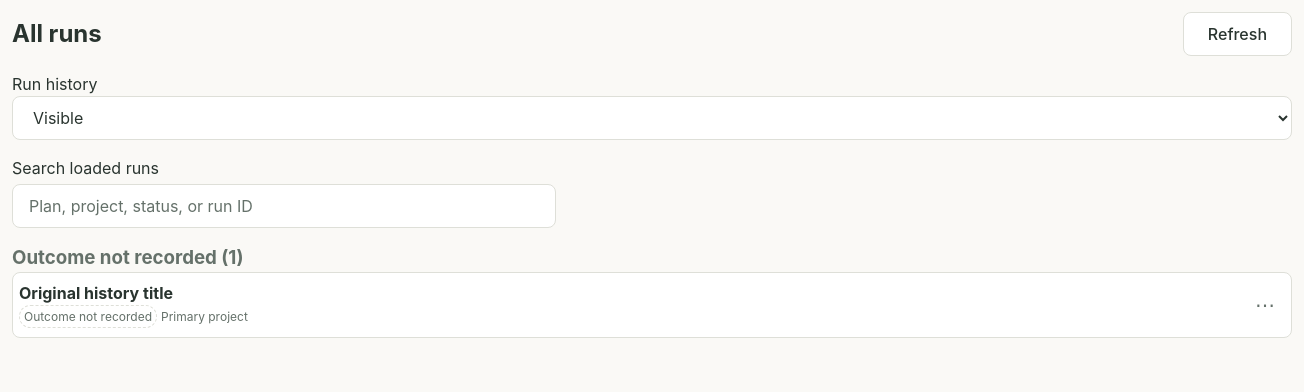
Test: GlobalRunOverview project context › keeps a history-gap row mounted across equal and changed refreshes and retains it on failure
Expected: the text "Original history title" is shown, 19,283 -> 173,303
Expected: the element with class "global-run-row" is shown, 12,272 -> 1292,338
Click the button "Refresh" at (1237, 34), box 1183,12 -> 1292,56
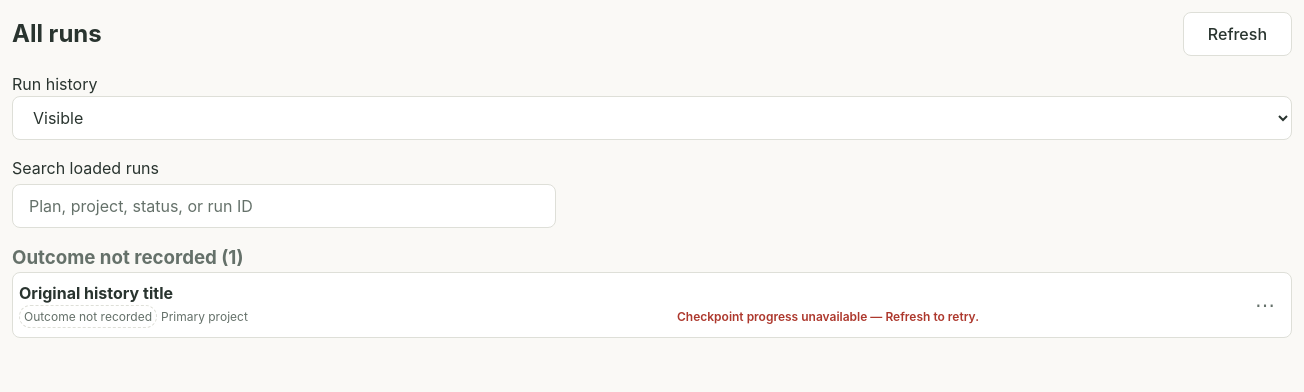
Click the button "Refresh" at (1237, 34), box 1183,12 -> 1292,56
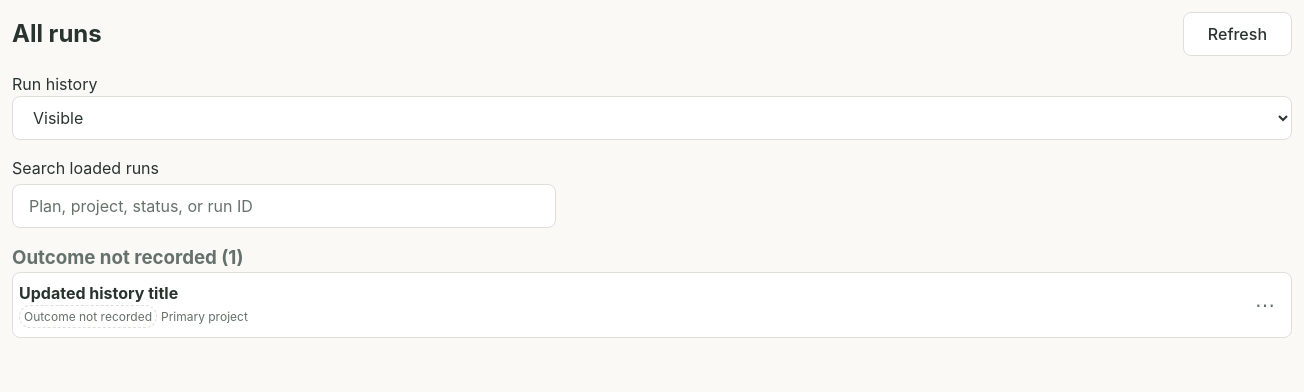
Expected: the text "Updated history title" is shown, 19,283 -> 178,303
Click the button "Refresh" at (1237, 34), box 1183,12 -> 1292,56
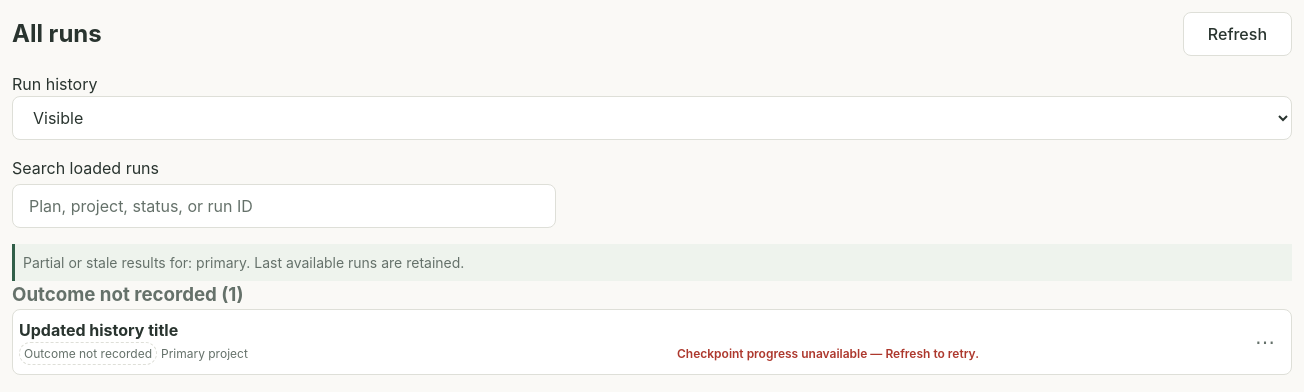
Expected: the text "Updated history title" is shown, 19,320 -> 178,340
Expected: the message shows "Partial or stale results", 23,254 -> 166,271
